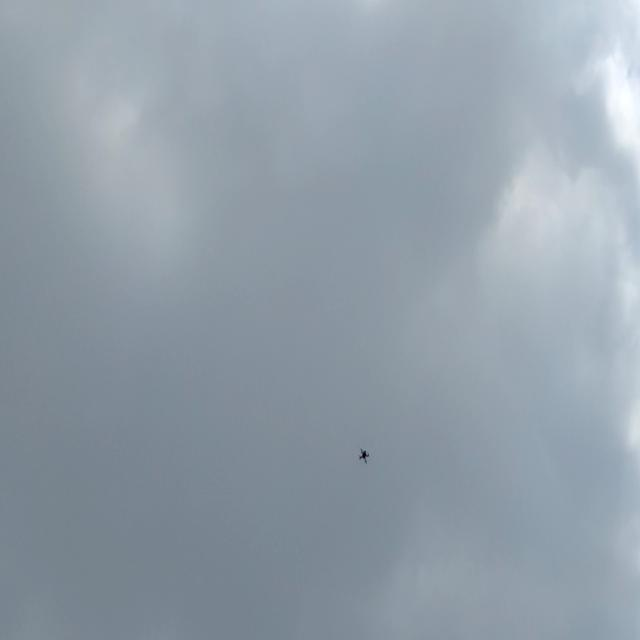drone: (350, 446, 377, 468)
